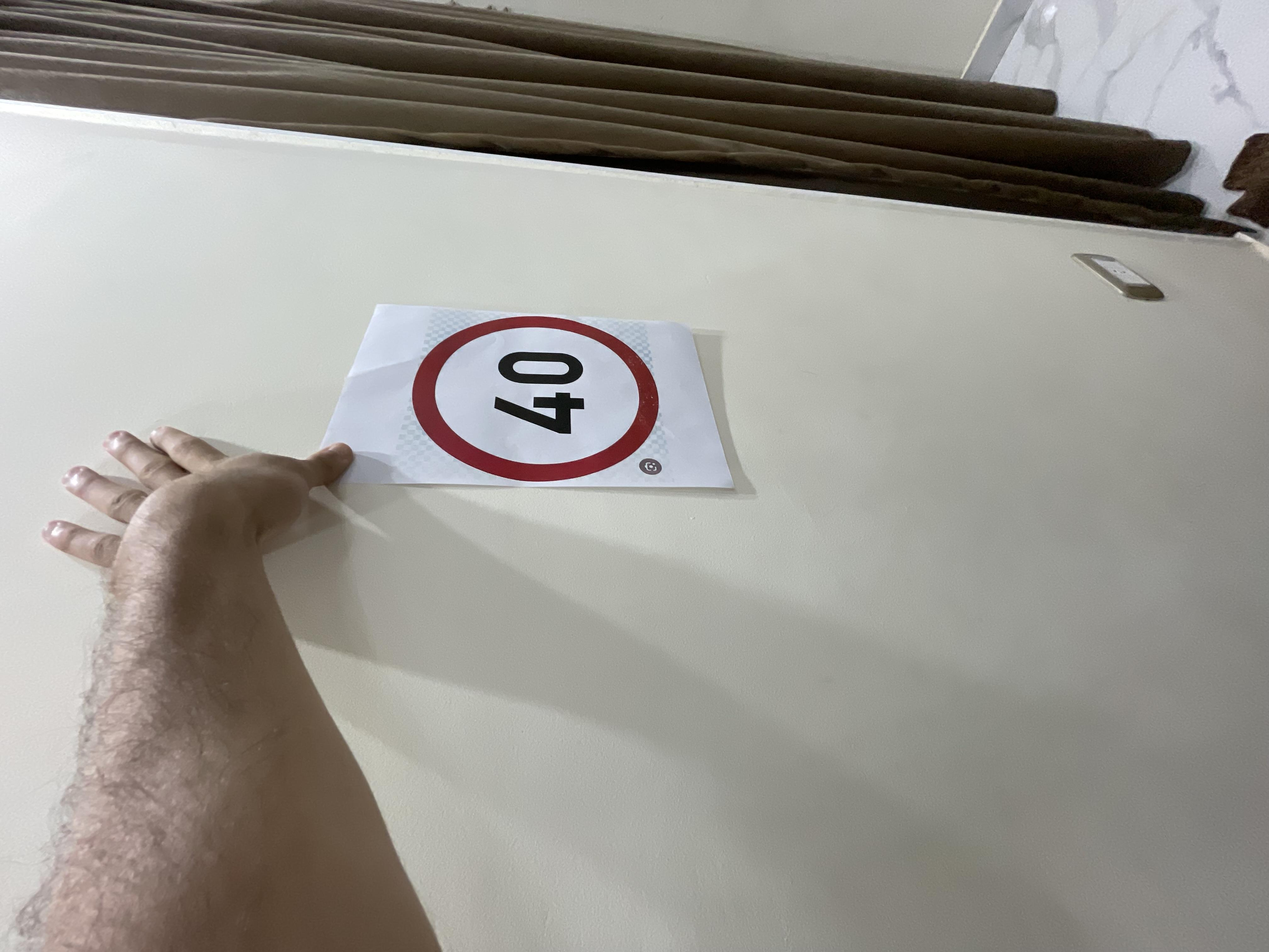40-Speed: (625, 305, 849, 494)
